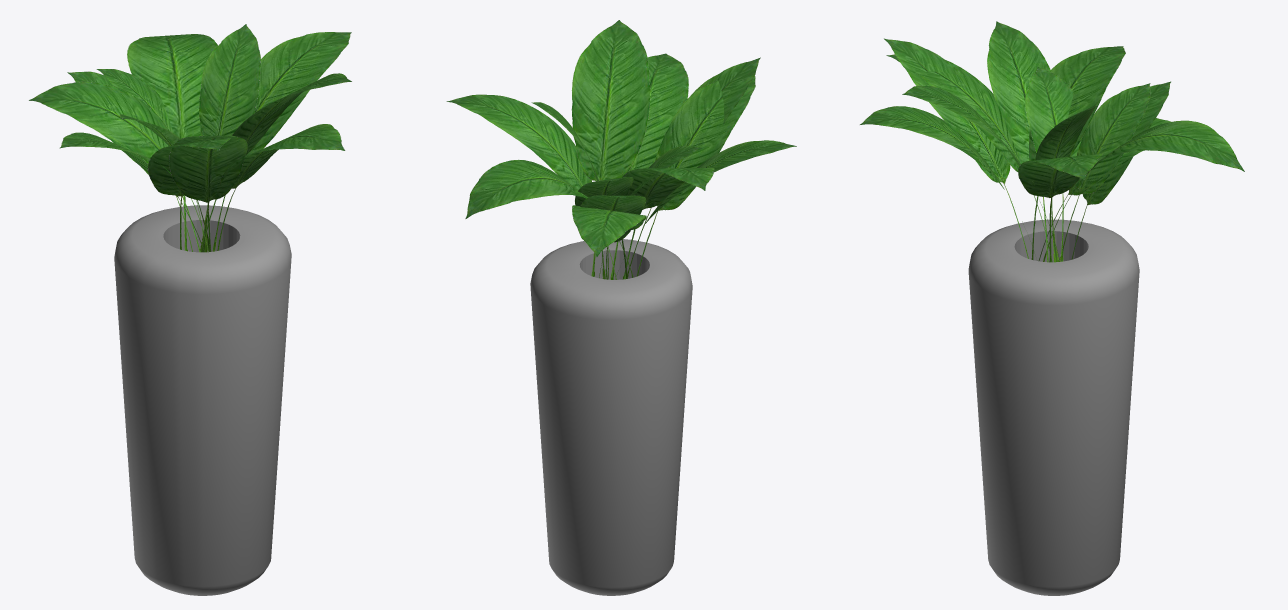
Rendered from plans 1.FBX.
The picture shows the model from 3 angles, left to right: view 1: azimuth 30°, elevation 25°; view 2: azimuth 150°, elevation 25°; view 3: azimuth 270°, elevation 25°; orthographic projection. The views are drawn at different scales.
Visible parts, largest first — view 1: Line001, Plane007, Plane014, Plane009, Plane004, Plane003, Plane005, Plane008, Plane006, Plane015, Plane012, Plane010; view 2: Line001, Plane008, Plane006, Plane004, Plane007, Plane005, Plane011, Plane009, Plane012, Plane003, Plane013, Plane015 (+1 smaller); view 3: Line001, Plane012, Plane015, Plane003, Plane007, Plane009, Plane006, Plane010, Plane004, Plane005, Plane014, Plane013 (+1 smaller).
Part boxes in pixels (x1=…): Line001: x1=114, y1=205, x2=291, y2=595; Plane007: x1=127, y1=34, x2=217, y2=251; Plane014: x1=199, y1=24, x2=260, y2=252; Plane009: x1=29, y1=81, x2=208, y2=252; Plane004: x1=201, y1=32, x2=351, y2=252; Plane003: x1=168, y1=135, x2=247, y2=251; Plane005: x1=217, y1=124, x2=345, y2=250; Plane008: x1=212, y1=73, x2=351, y2=251; Plane006: x1=148, y1=138, x2=230, y2=249; Plane015: x1=96, y1=69, x2=203, y2=235; Plane012: x1=59, y1=132, x2=204, y2=252; Plane010: x1=119, y1=114, x2=209, y2=251; Line001: x1=530, y1=239, x2=692, y2=595; Plane008: x1=571, y1=20, x2=650, y2=276; Plane006: x1=636, y1=76, x2=755, y2=276; Plane004: x1=446, y1=94, x2=616, y2=279; Plane007: x1=465, y1=159, x2=633, y2=277; Plane005: x1=610, y1=53, x2=688, y2=279; Plane011: x1=572, y1=205, x2=646, y2=278; Plane009: x1=622, y1=168, x2=714, y2=279; Plane012: x1=615, y1=140, x2=796, y2=279; Plane003: x1=627, y1=57, x2=760, y2=277; Plane013: x1=580, y1=195, x2=646, y2=279; Plane015: x1=575, y1=176, x2=633, y2=279; Line001: x1=968, y1=219, x2=1139, y2=595; Plane012: x1=987, y1=21, x2=1050, y2=262; Plane015: x1=1059, y1=83, x2=1150, y2=261; Plane003: x1=884, y1=38, x2=1028, y2=258; Plane007: x1=1043, y1=120, x2=1244, y2=261; Plane009: x1=1029, y1=46, x2=1125, y2=259; Plane006: x1=886, y1=54, x2=1052, y2=262; Plane010: x1=1025, y1=66, x2=1082, y2=261; Plane004: x1=1018, y1=153, x2=1102, y2=262; Plane005: x1=860, y1=106, x2=1037, y2=260; Plane014: x1=1035, y1=105, x2=1096, y2=262; Plane013: x1=1071, y1=81, x2=1170, y2=259.
Size of the model in its own units: 583 by 812 by 617.
Materials: 2 (1 with a texture image).
